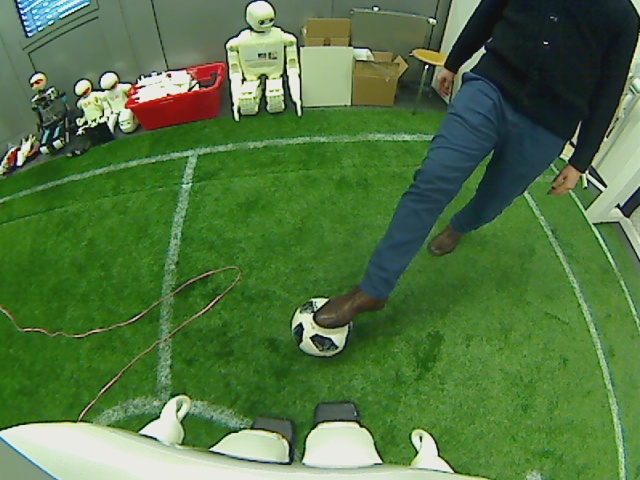ball: (291, 297, 351, 357)
